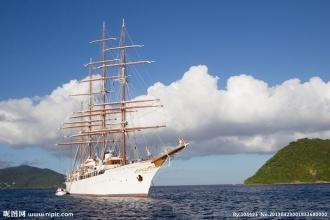fanchuan: (59, 15, 189, 195)
